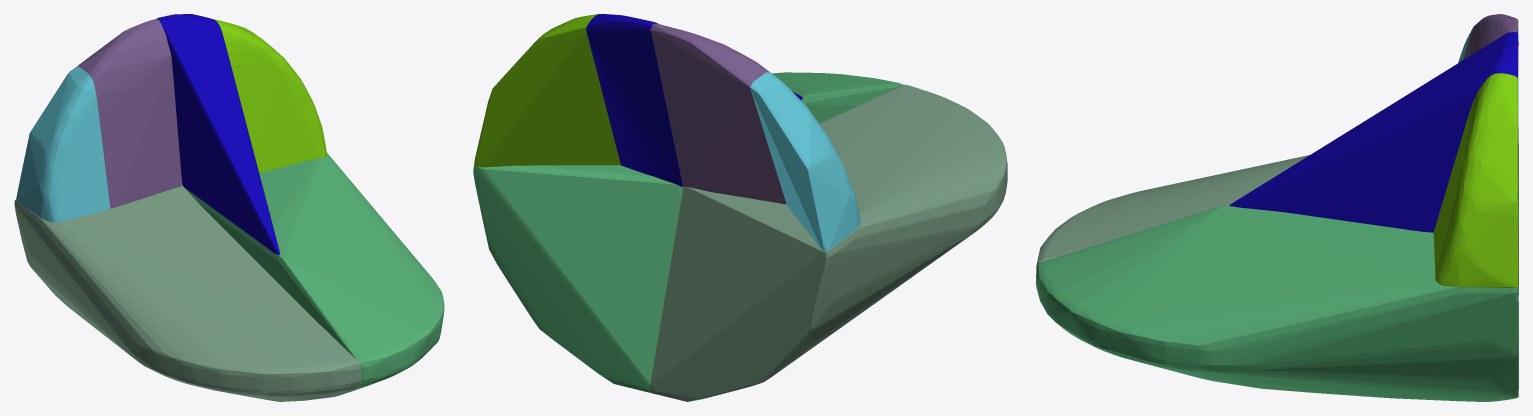
Rendered from arm-L1_split.obj.
The picture shows the model from 3 angles, left to right: view 1: azimuth 30°, elevation 25°; view 2: azimuth 150°, elevation 25°; view 3: azimuth 270°, elevation 25°; orthographic projection. The views are drawn at different scales.
Parts seen in each view (by area): view 1: geometry_0, geometry_3, geometry_5, geometry_1, geometry_2, geometry_4; view 2: geometry_0, geometry_3, geometry_1, geometry_4, geometry_5, geometry_2; view 3: geometry_3, geometry_5, geometry_4, geometry_0, geometry_1.
Boxes of the visible parts, x1,y1,x2,y2 form: geometry_0: [14, 186, 360, 401]; geometry_3: [185, 153, 444, 395]; geometry_5: [156, 14, 280, 254]; geometry_1: [77, 19, 182, 208]; geometry_2: [16, 66, 110, 222]; geometry_4: [213, 19, 327, 172]; geometry_0: [650, 84, 1007, 401]; geometry_3: [473, 72, 902, 392]; geometry_1: [650, 23, 786, 204]; geometry_4: [474, 14, 620, 167]; geometry_5: [586, 14, 803, 186]; geometry_2: [750, 72, 860, 251]; geometry_3: [1036, 205, 1518, 401]; geometry_5: [1229, 32, 1518, 232]; geometry_4: [1433, 73, 1518, 287]; geometry_0: [1036, 125, 1518, 294]; geometry_1: [1463, 14, 1518, 59].
Bounding box in the file's own units: 0.0754 × 0.0751 × 0.0932.
